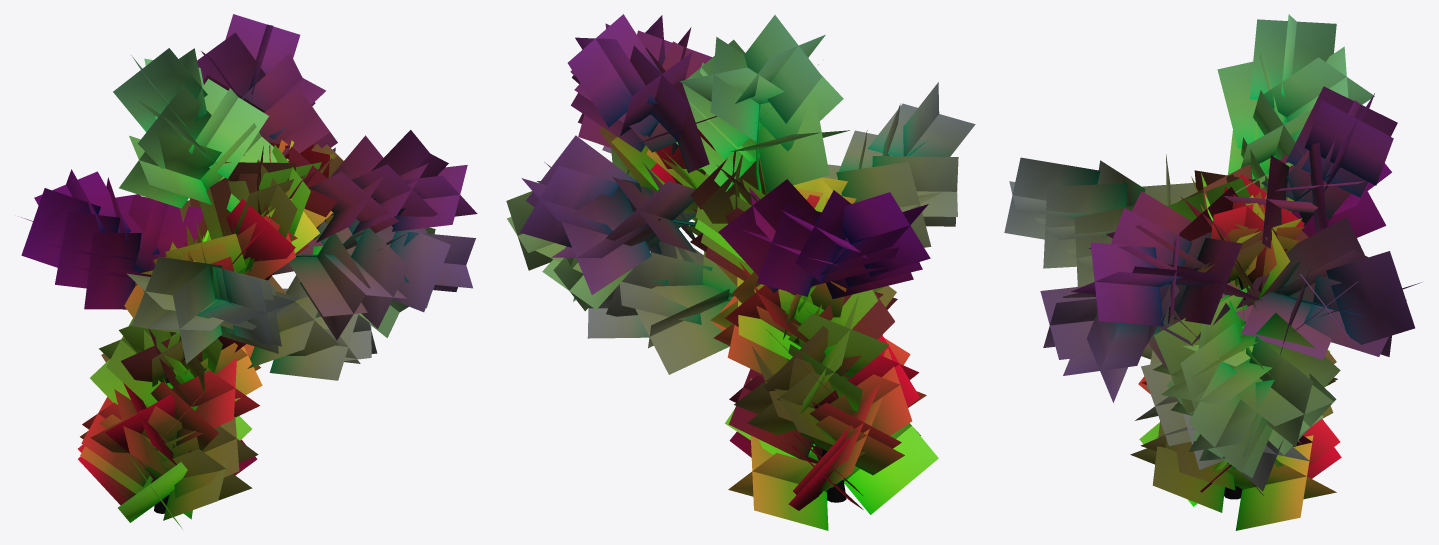
Rendered from URP_P3_Tree_14_LOD_2.fbx.
3 renders of one model, left to right at view 1: azimuth 30°, elevation 25°; view 2: azimuth 150°, elevation 25°; view 3: azimuth 270°, elevation 25°, orthographic. The views are drawn at different scales.
Parts seen in each view (by area): view 1: Tree_14_LOD_2; view 2: Tree_14_LOD_2; view 3: Tree_14_LOD_2.
Part boxes in pixels (box(x1,y1,x2,y2)): Tree_14_LOD_2: box(21, 14, 477, 528); Tree_14_LOD_2: box(506, 14, 975, 530); Tree_14_LOD_2: box(1004, 14, 1421, 530).
Size of the model in its own units: 655 by 717 by 528.
